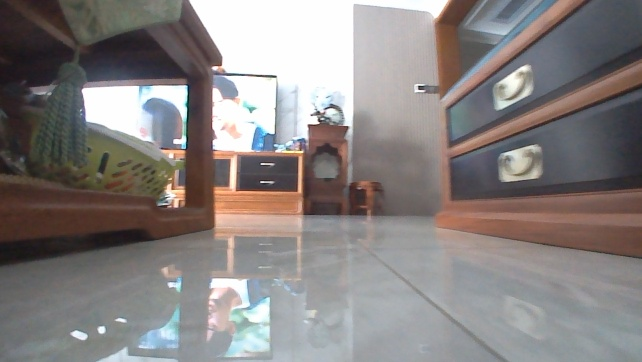TV_stand1: (158, 141, 310, 217)
tea_table1: (0, 0, 225, 252)
